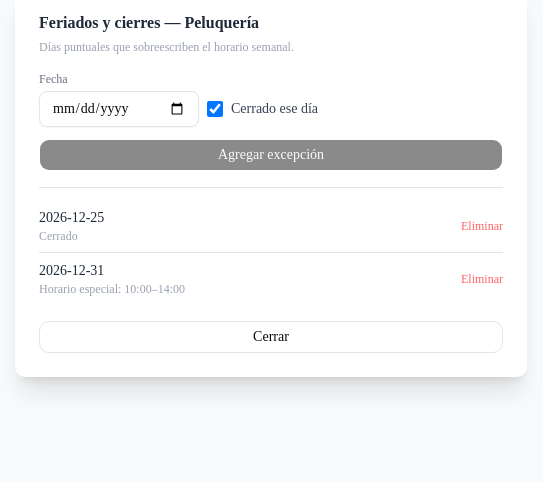
Test: ExcepcionesEditor › EXC-03: horario especial manda horas; inicio ≥ fin deshabilita; error de la API se muestra
The image size is (543, 482).
Expected: the text "2026-12-25" is shown, [39,208,104,228]
Type "2026-09-19" into the date field at (119,109), box [39,91,199,127]
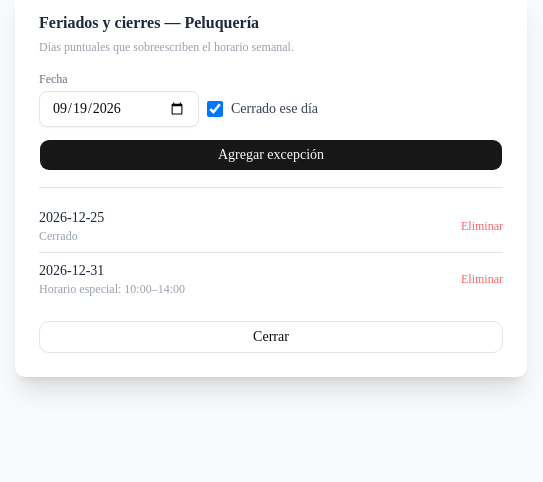
Click the checkbox at (215,109), box [207,101,223,117]
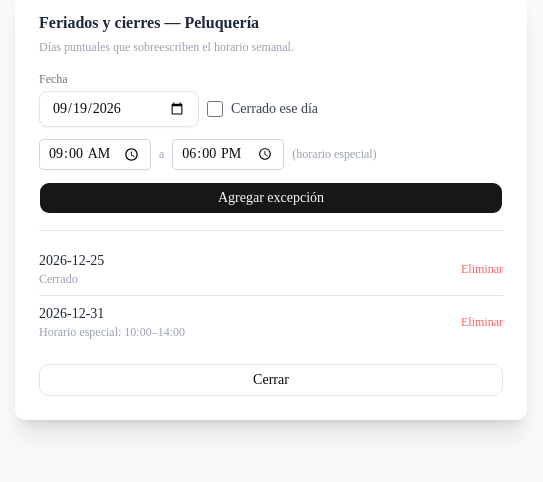
Replace the text in the 1st time field with "15:00" at (95,154), box [39,139,151,170]
Replace the text in the 2nd time field with "12:00" at (228,154), box [172,139,284,170]
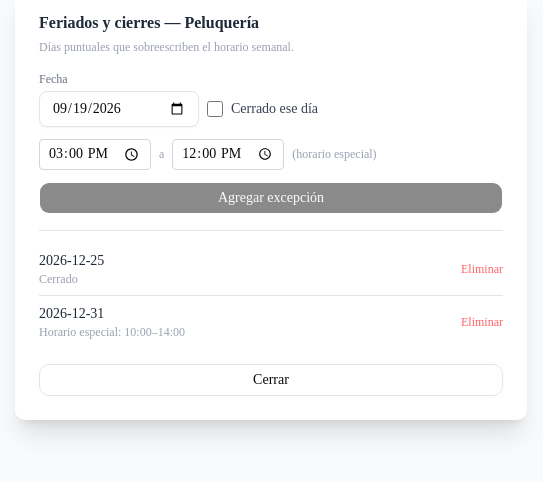
Now the button "Agregar excepción" is disabled, box [39,182,503,214]
Replace the text in the 2nd time field with "17:30" at (228,154), box [172,139,284,170]
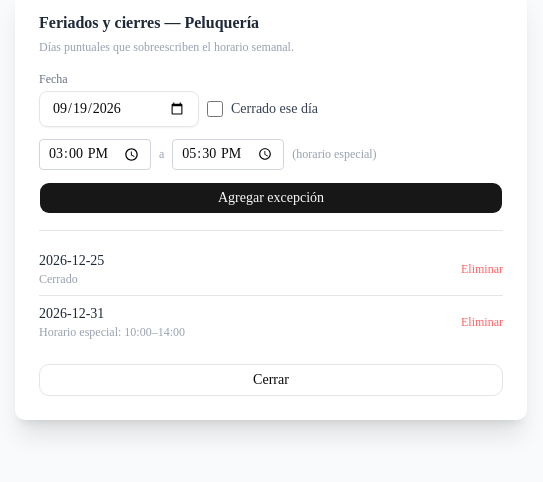
Click the button "Agregar excepción" at (271,198), box [39,182,503,214]
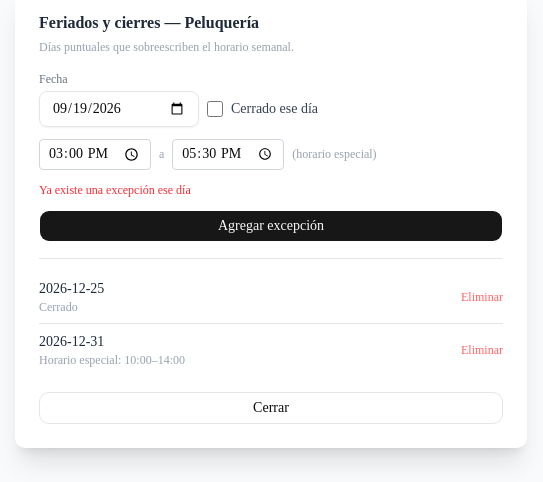
Now the text "Ya existe una excepción ese día" is shown, box [39,183,191,197]
Click the button "Agregar excepción" at (271,226), box [39,210,503,242]
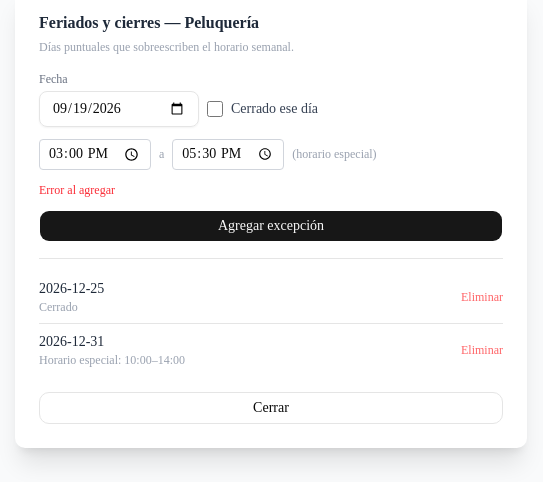
Now the text "Error al agregar" is shown, box [39,183,115,197]
